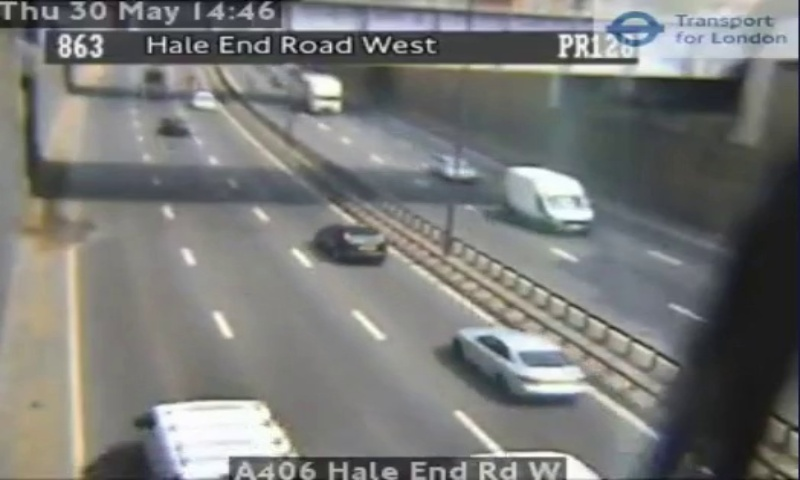car: (451, 324, 589, 396), (317, 224, 386, 261)
